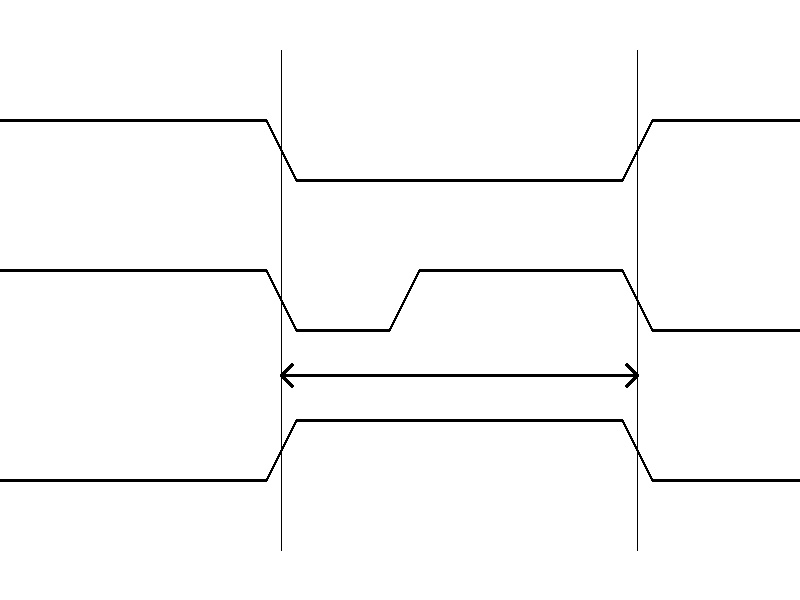double_arrow: (281, 360, 637, 390)
